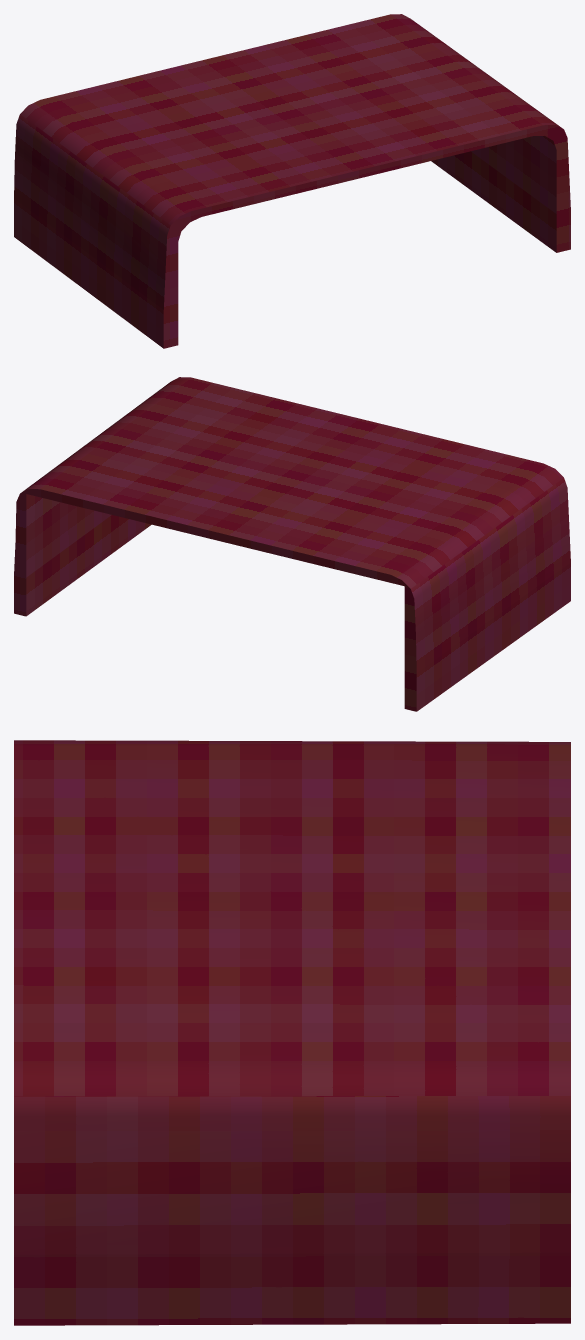
The model's file is tapis_ouija.glb.
3 views of the same model, one above another, from view 1: azimuth 30°, elevation 25°; view 2: azimuth 150°, elevation 25°; view 3: azimuth 270°, elevation 25° (orthographic). The views are drawn at different scales.
Parts seen in each view (by area): view 1: tapis_table; view 2: tapis_table; view 3: tapis_table.
Boxes of the visible parts, x1,y1,x2,y2 form: tapis_table: (14,14,570,348); tapis_table: (14,377,570,711); tapis_table: (14,740,570,1325).
Size of the model in its own units: 1.36 by 0.4177 by 0.8788.
1 material, 1 textured.
